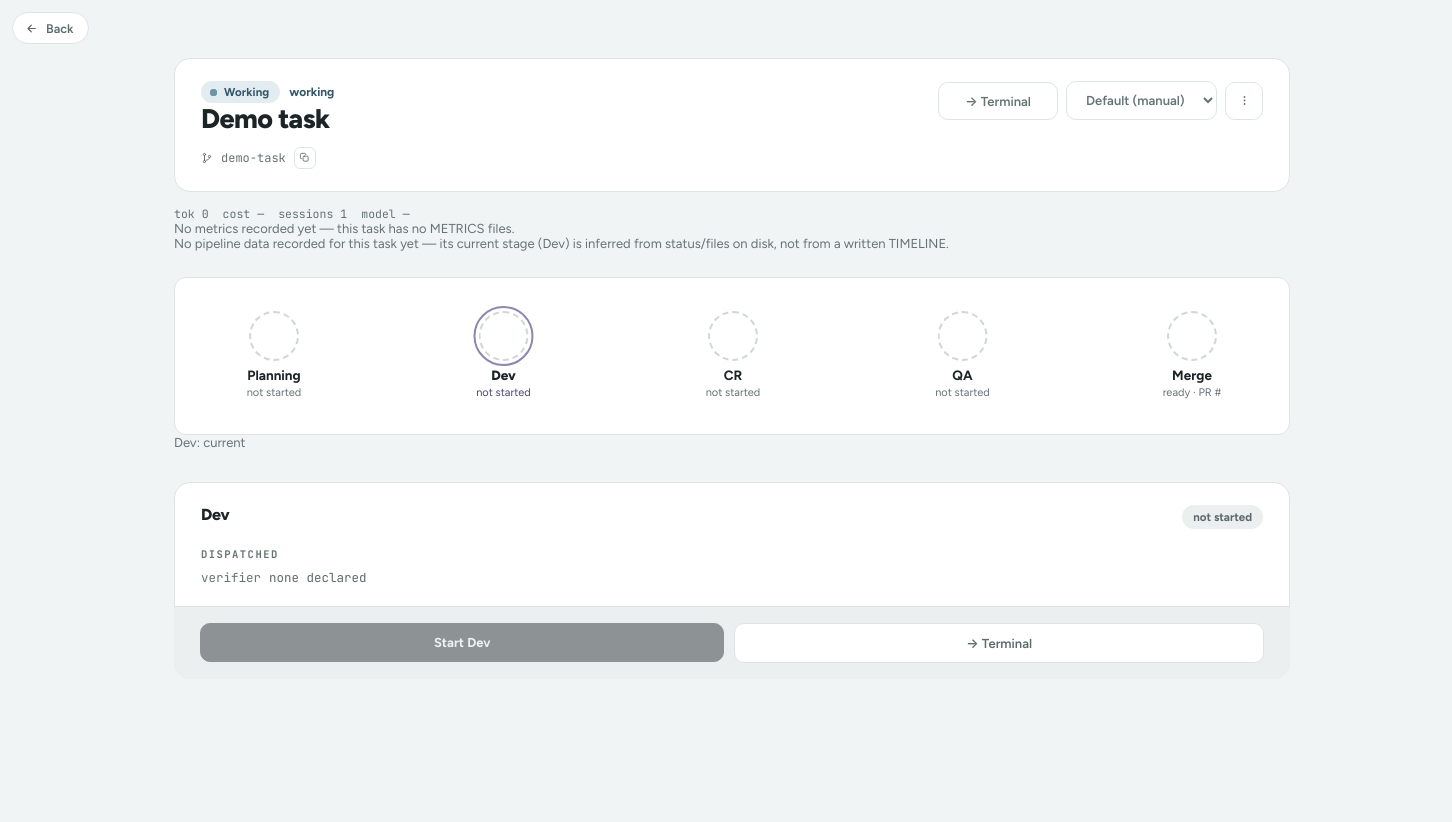
TaskDetail: page behavior › the card menu's off-focus item flips the shared off-focus state and tags the status line
The image size is (1452, 822).
Click the button with test id "card-menu-btn" at (1244, 100), box [1225,82,1263,120]
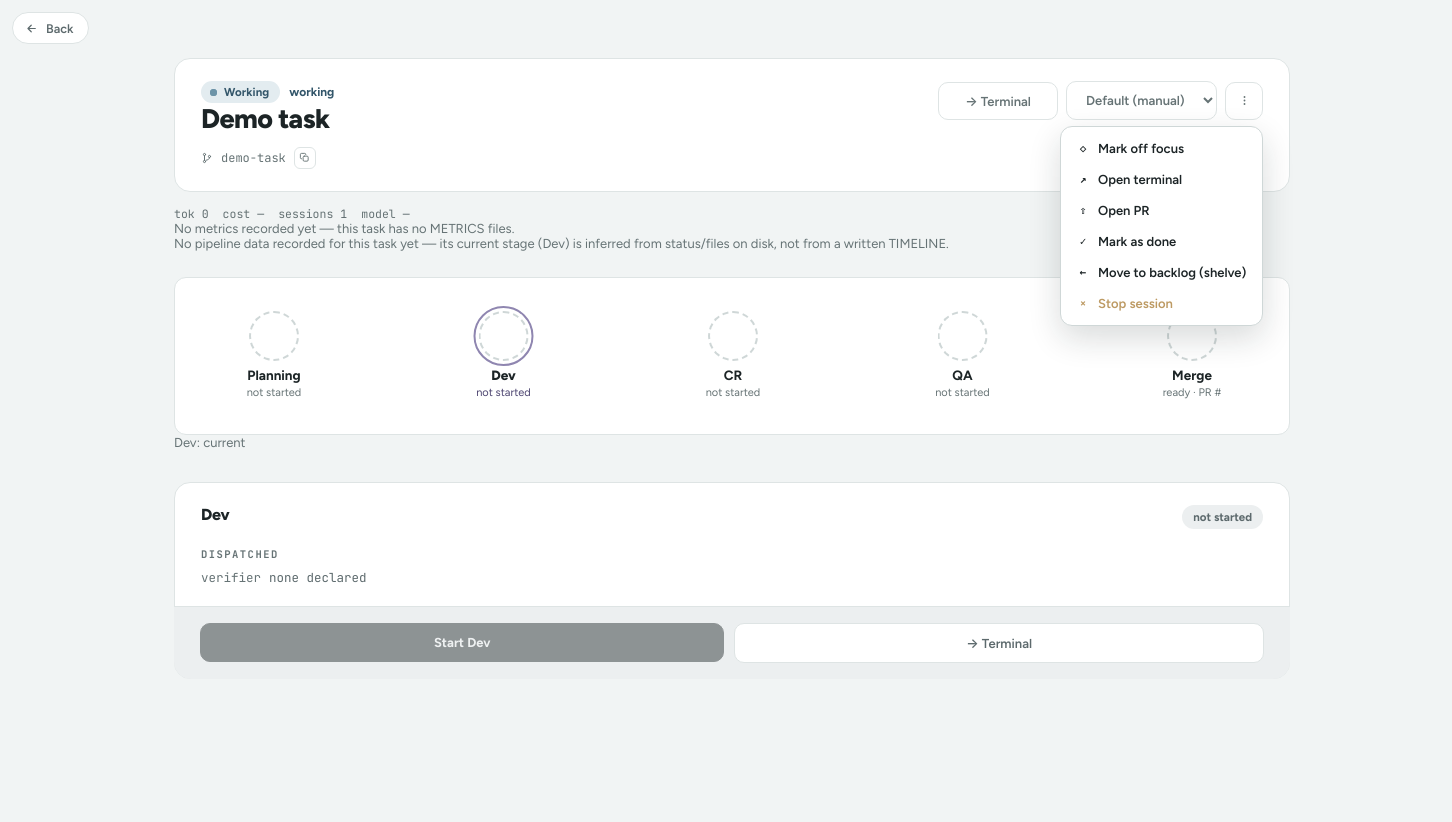
Click the button with test id "card-menu-toggle-off-focus" at (1162, 148), box [1067,132,1256,164]
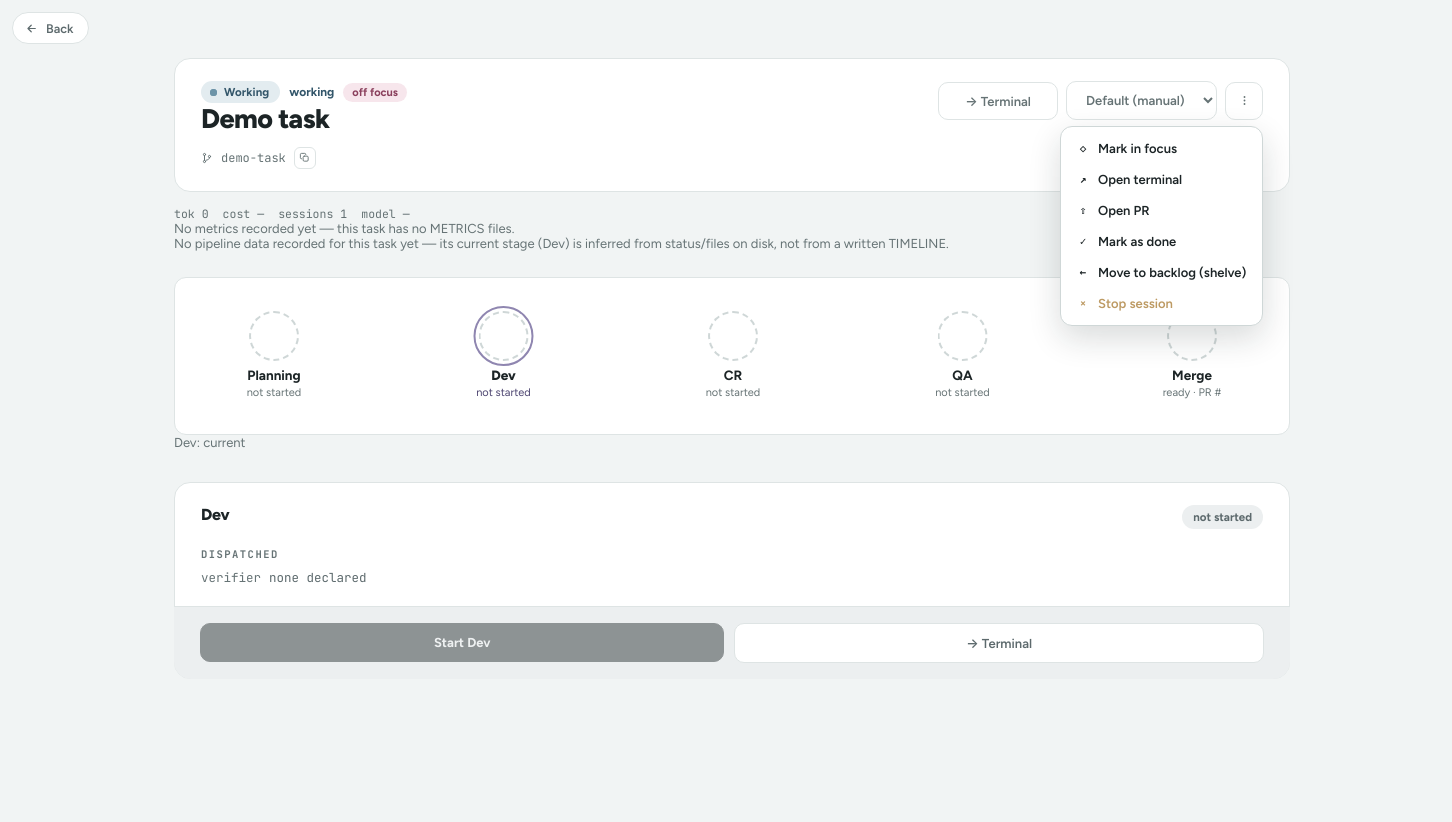
Expected: the element with test id "detail-status-line" shows "off focus", [352,86,398,98]
